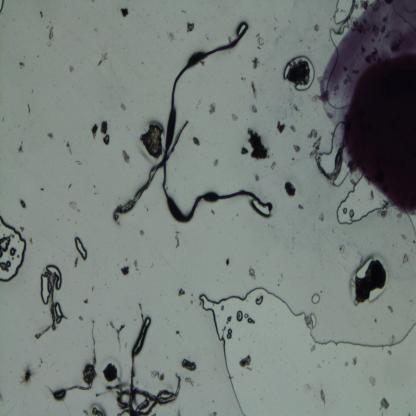Air bubble: (194, 289, 416, 414), (335, 178, 388, 225), (310, 119, 348, 177), (0, 213, 27, 281), (45, 262, 63, 290), (38, 272, 52, 306), (73, 234, 89, 261), (251, 200, 272, 218), (54, 302, 64, 324), (0, 234, 12, 252), (307, 312, 317, 327), (310, 293, 320, 305), (0, 1, 7, 16), (236, 310, 244, 322), (254, 296, 263, 306), (226, 328, 233, 340)
Background material: (350, 252, 392, 309), (282, 53, 315, 90), (141, 121, 164, 160), (245, 129, 269, 162), (107, 320, 125, 354), (18, 362, 38, 386), (101, 361, 120, 386), (81, 403, 105, 416), (100, 120, 111, 146), (180, 358, 197, 374), (239, 354, 254, 372), (283, 182, 299, 198), (97, 50, 108, 70), (184, 18, 196, 34), (400, 250, 412, 266), (46, 25, 55, 45), (150, 370, 166, 381), (318, 385, 327, 404), (122, 149, 132, 166), (68, 199, 80, 213), (250, 81, 258, 100), (64, 141, 74, 156), (25, 99, 34, 115), (18, 197, 28, 211), (276, 120, 286, 134), (379, 399, 391, 410), (118, 100, 128, 113), (367, 374, 376, 388), (248, 268, 257, 282), (350, 354, 359, 368), (307, 128, 318, 139), (255, 36, 265, 48), (174, 229, 180, 249), (192, 136, 202, 148), (252, 57, 260, 72), (120, 6, 129, 19), (208, 102, 217, 115), (91, 124, 99, 138), (290, 121, 298, 135), (18, 142, 26, 156), (292, 102, 300, 115), (120, 266, 130, 276), (134, 258, 140, 274), (292, 142, 300, 154), (47, 129, 54, 142), (224, 256, 232, 267), (178, 287, 186, 298), (212, 157, 220, 168), (240, 146, 249, 155), (230, 111, 238, 121), (308, 343, 316, 353), (19, 61, 26, 72), (270, 160, 277, 170), (254, 173, 260, 184), (252, 104, 258, 114), (67, 179, 73, 189), (38, 184, 45, 192), (314, 23, 320, 32), (68, 66, 74, 74), (138, 230, 146, 236)
Cellulose filter fibre: (112, 121, 190, 224), (105, 310, 182, 413), (44, 318, 99, 397), (36, 270, 55, 341), (312, 149, 348, 182), (328, 1, 356, 42)
Cotton: (160, 31, 274, 222)
Pen: (320, 0, 416, 215)
